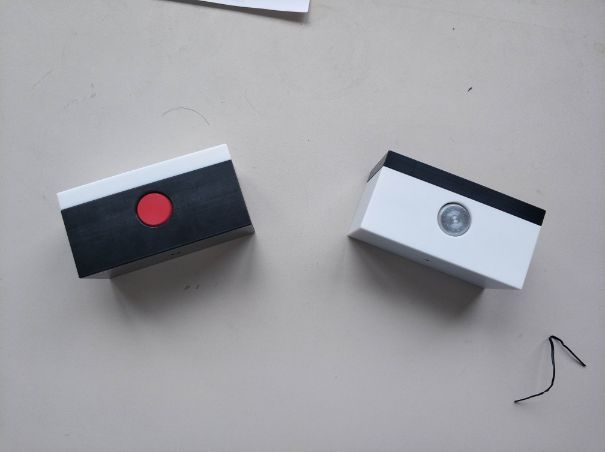black+white+silver: (344, 149, 547, 295)
white+black+red: (53, 142, 259, 282)
